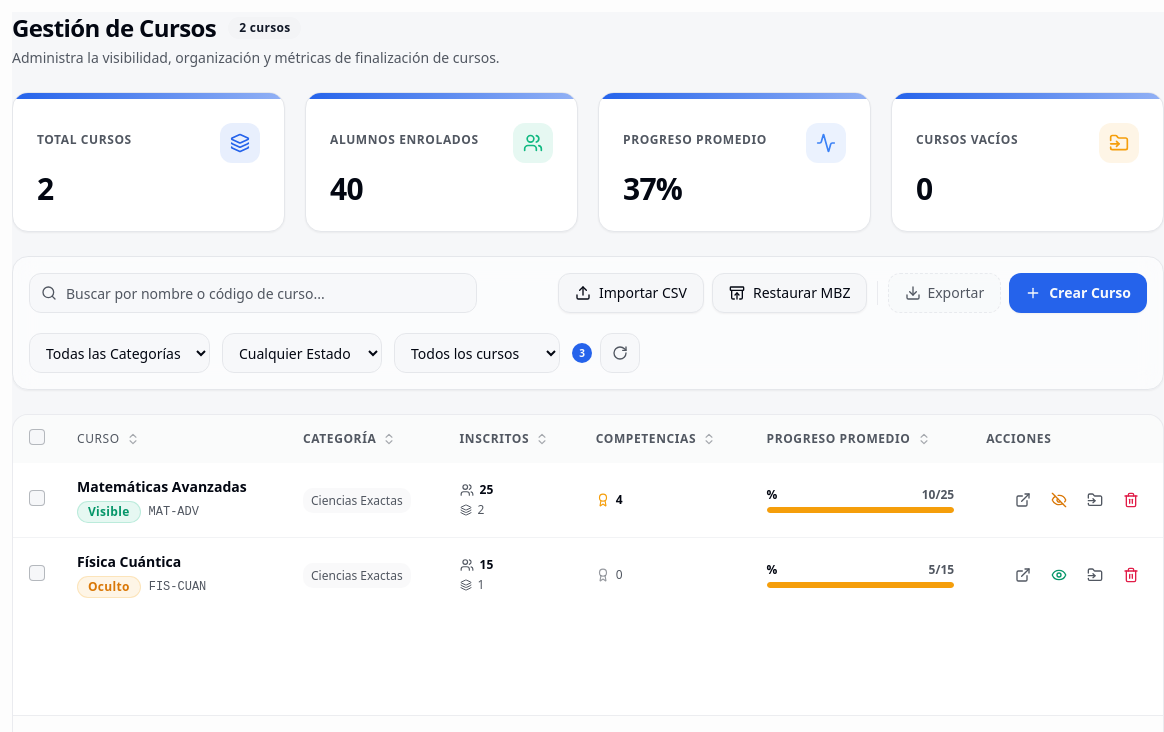
it: CoursesView behavior tests › shows error toast when courseAction rejects
The width and height of the screenshot is (1164, 732).
Expected: the link "Matemáticas Avanzadas" is shown, [77, 477, 271, 497]
What coordinates should you click on to do the following:
click the button titled "Ocultar curso"
I would click on:
 (1059, 500)
Its box is [1043, 484, 1075, 516].
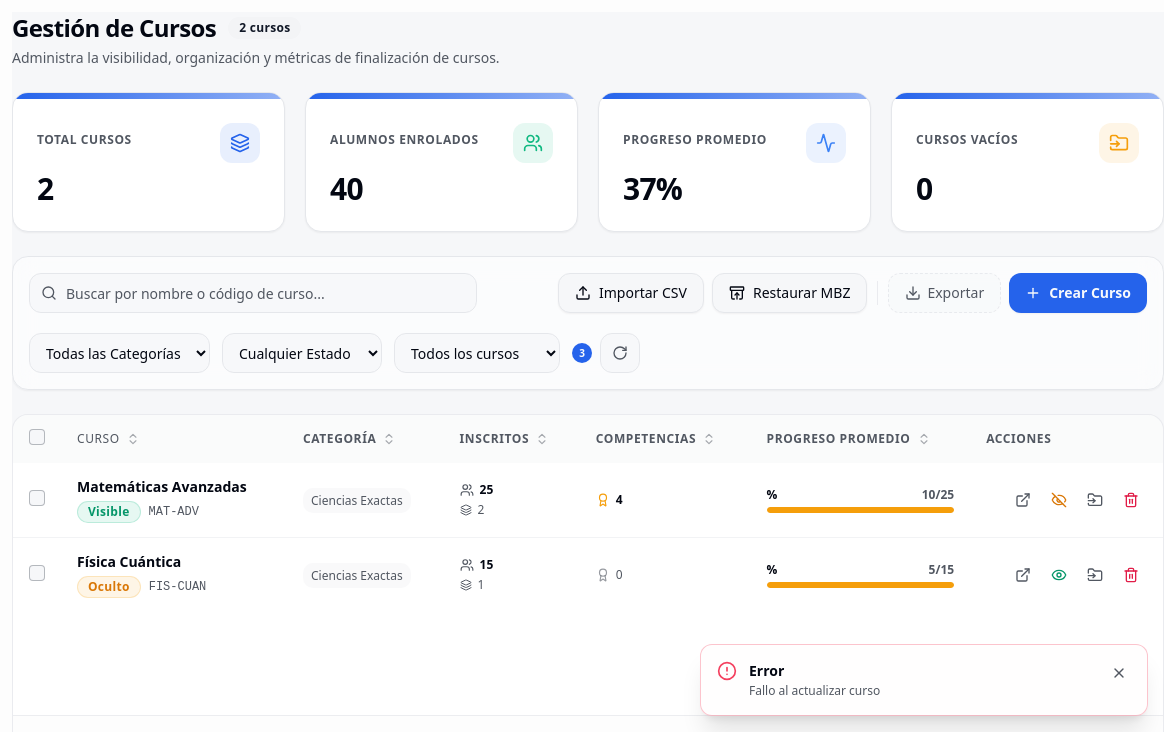
Now the text "Fallo al actualizar curso" is shown, box [749, 682, 880, 699]
